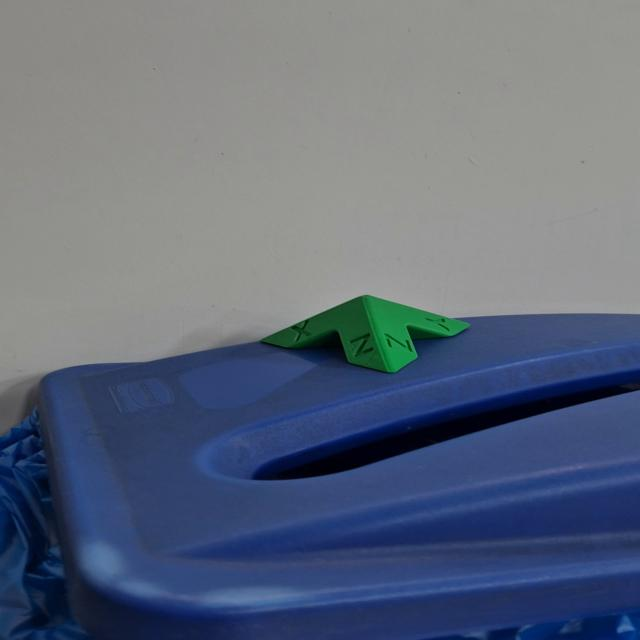objects: (257, 293, 472, 375)
